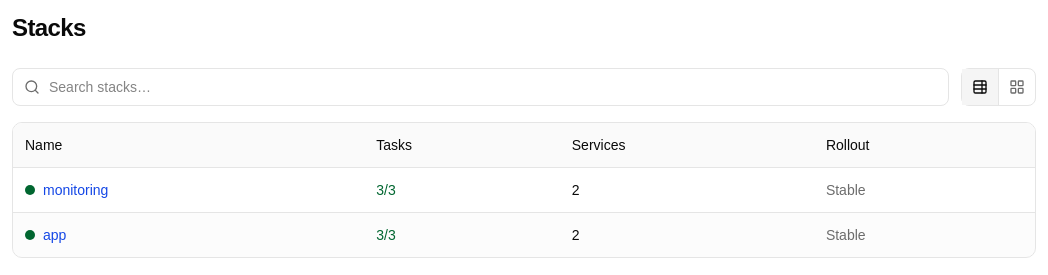
Scenario: StackList › filters by search
Expected: the link "monitoring" is shown, [43, 180, 108, 200]
Type "app" into the field with placeholder "Search stacks…" at (480, 87), box [12, 68, 949, 106]
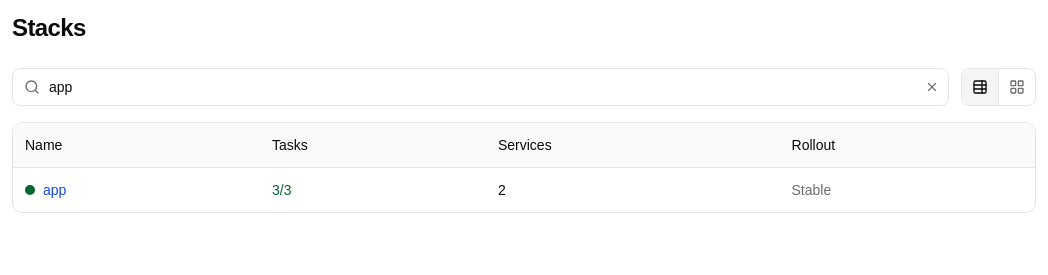
Expected: the link "app" is shown, [43, 180, 66, 200]
Result: the link "monitoring" is gone
